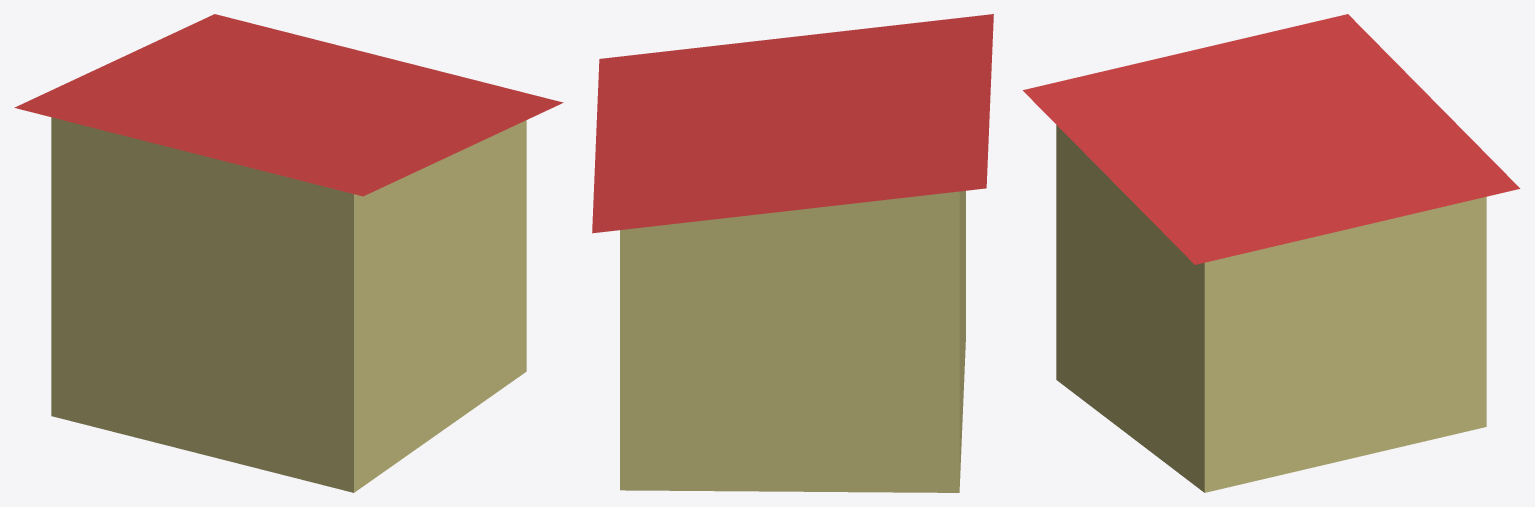
3 renders of one model, left to right at view 1: azimuth 30°, elevation 25°; view 2: azimuth 150°, elevation 25°; view 3: azimuth 270°, elevation 25°, orthographic. The views are drawn at different scales.
Size of the model in its own units: 14.84 by 15.03 by 9.5.
